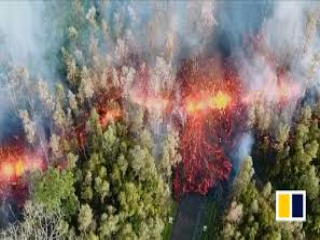fire: (122, 62, 267, 113), (2, 147, 53, 187)
smoke: (5, 15, 80, 126), (262, 3, 319, 120), (235, 130, 258, 162)
